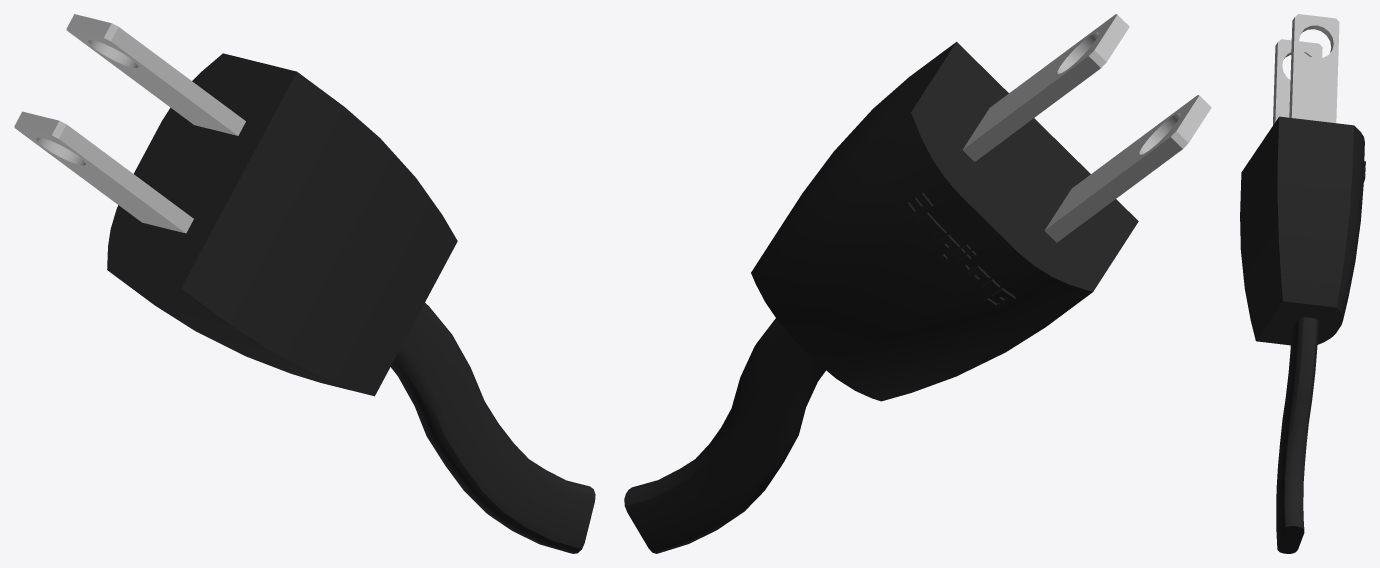
The model's file is electric_plug.fbx.
3 views of the same model, side by side, from view 1: azimuth 30°, elevation 25°; view 2: azimuth 150°, elevation 25°; view 3: azimuth 270°, elevation 25° (orthographic). The views are drawn at different scales.
Visible parts, largest first — view 1: Circle.2551; view 2: Circle.2551; view 3: Circle.2551.
Part boxes in pixels (box(x1,y1,x2,y2)): Circle.2551: box(14, 14, 595, 553); Circle.2551: box(624, 14, 1211, 553); Circle.2551: box(1240, 14, 1365, 553).
Bounding box in the file's own units: 200 × 217 × 61.73.
1 material, 1 textured.
